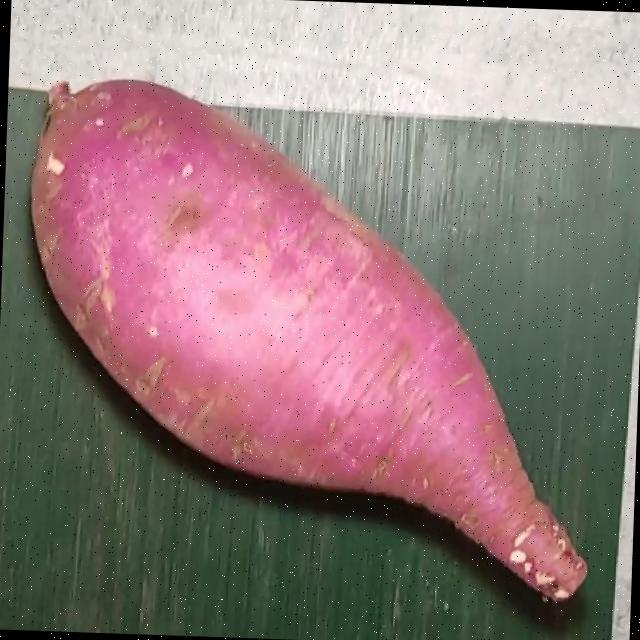Sweet Potato: (30, 77, 582, 597)
